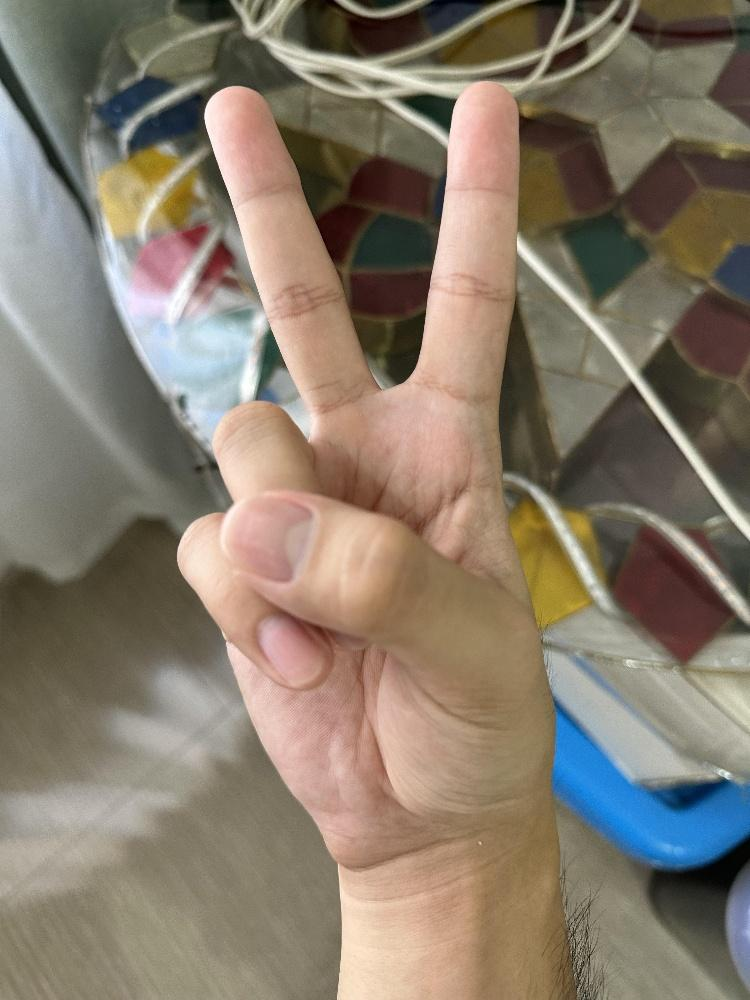v: (174, 77, 558, 871)
